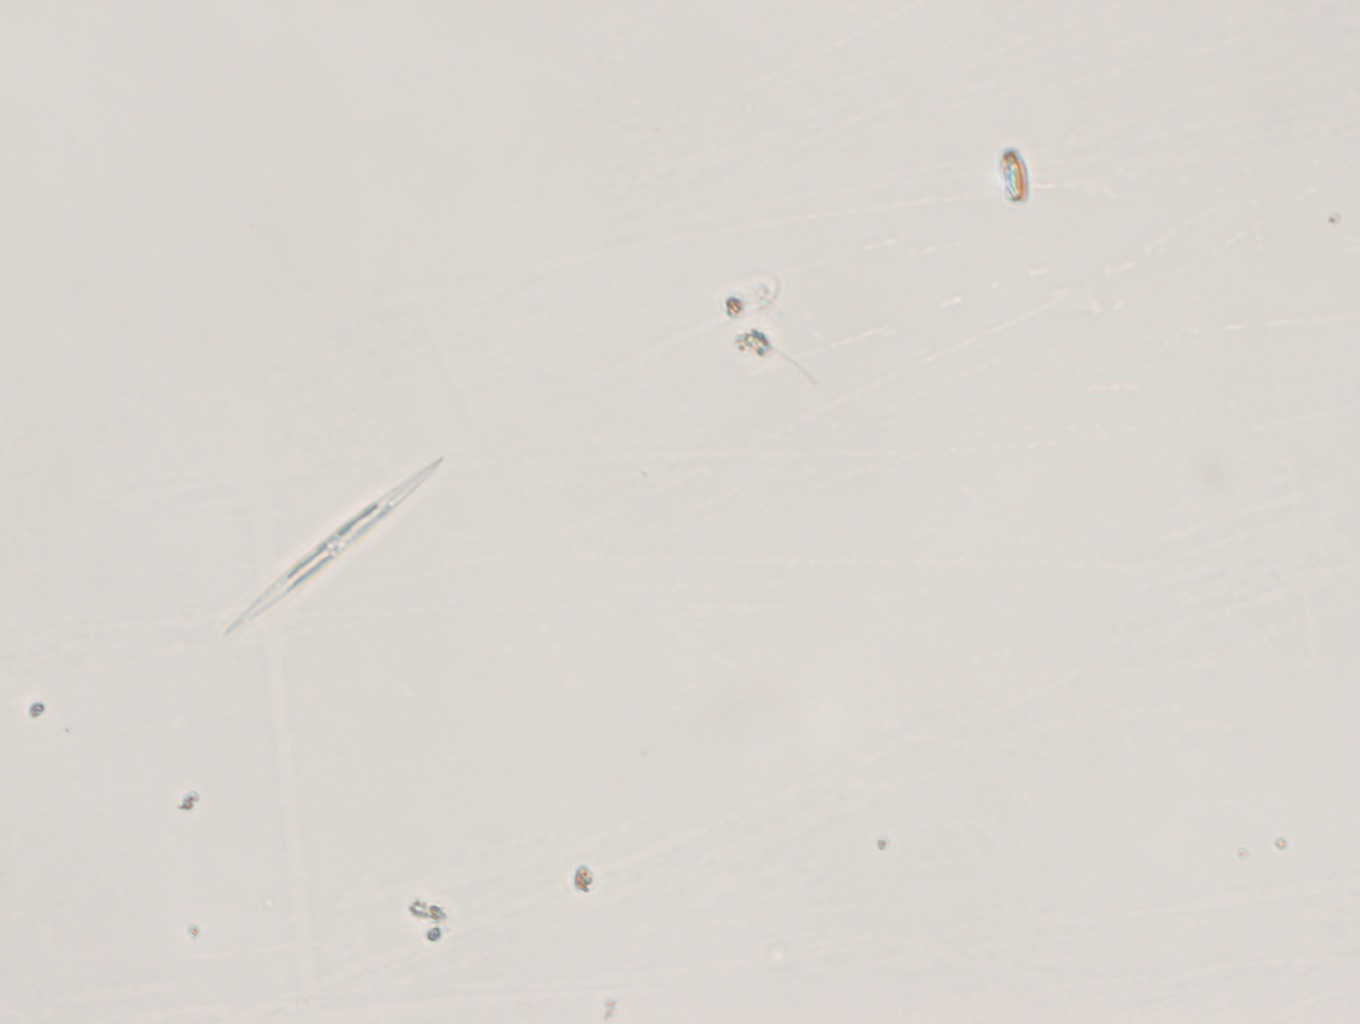ceratium fusus: (220, 452, 447, 668)
